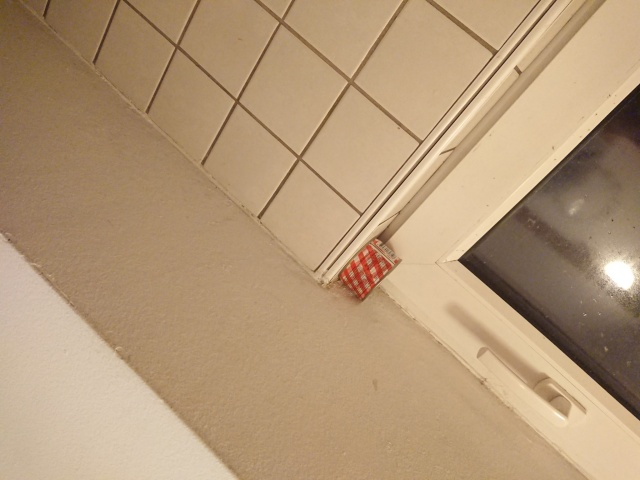Podravka Luncheon Meat 150g: (336, 235, 405, 304)
